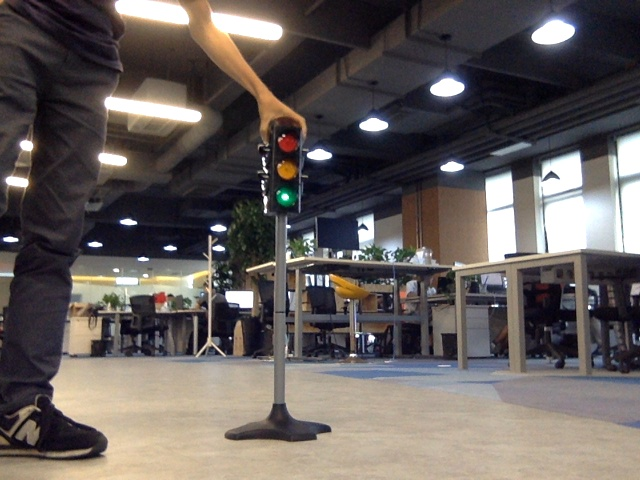green: (272, 131, 297, 212)
